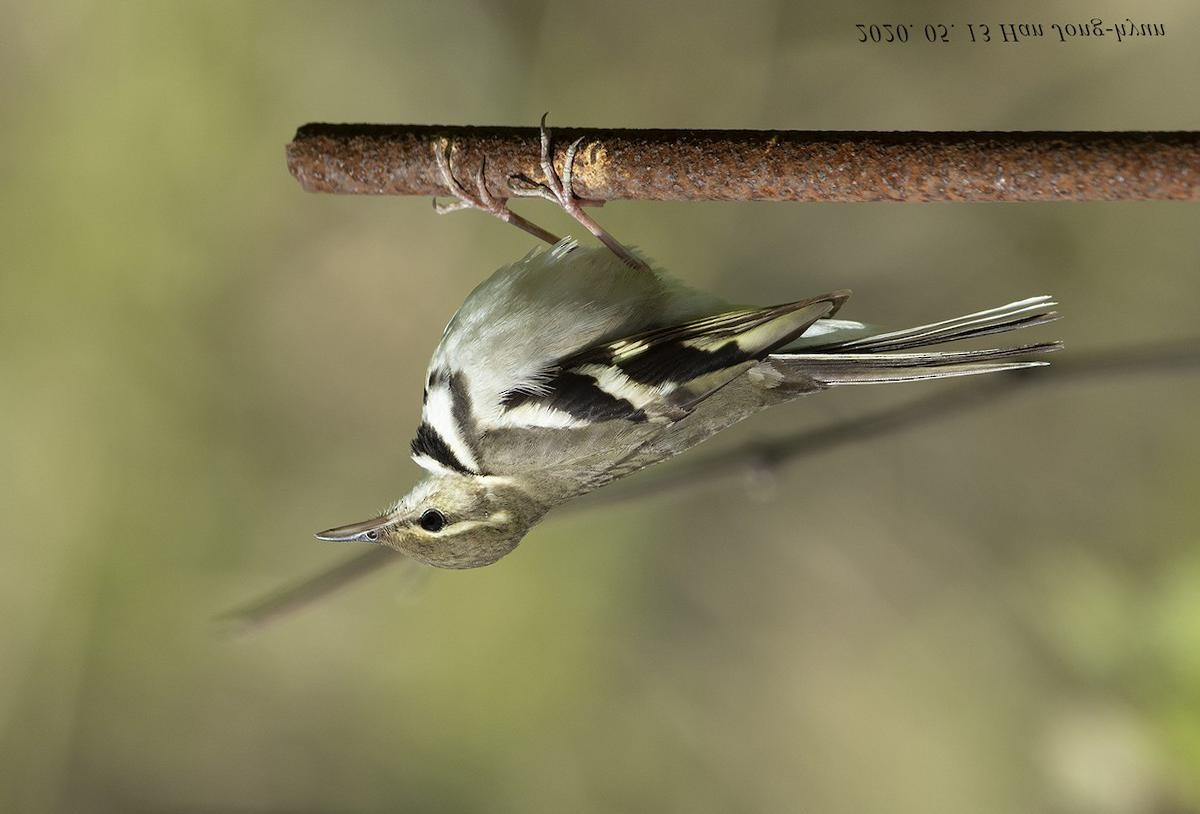wagtail: (313, 137, 1085, 621)
